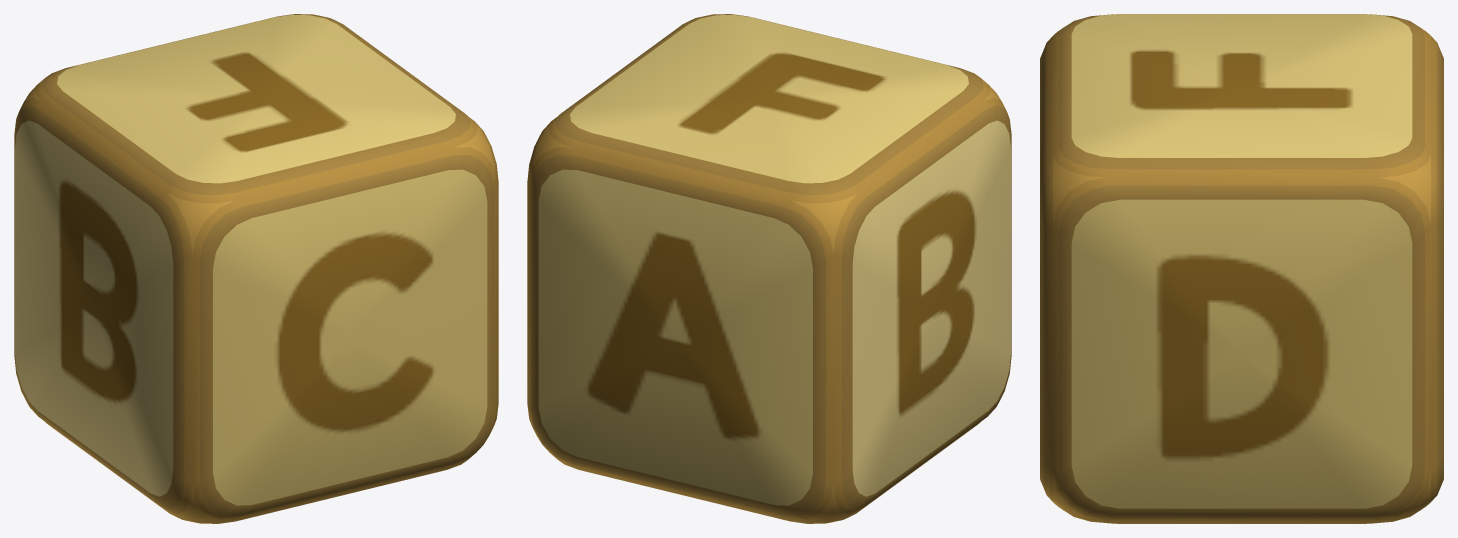
File: D_FBX_10_Block_C.fbx
3 views of the same model, side by side, from view 1: azimuth 30°, elevation 25°; view 2: azimuth 150°, elevation 25°; view 3: azimuth 270°, elevation 25° (orthographic). The views are drawn at different scales.
Parts seen in each view (by area): view 1: D_FBX_10_Block_C; view 2: D_FBX_10_Block_C; view 3: D_FBX_10_Block_C.
Boxes of the visible parts, x1,y1,x2,y2 form: D_FBX_10_Block_C: (14, 14, 498, 523); D_FBX_10_Block_C: (527, 14, 1011, 523); D_FBX_10_Block_C: (1040, 14, 1443, 523).
Bounding box in the file's own units: 2.14 × 2.14 × 2.14.
